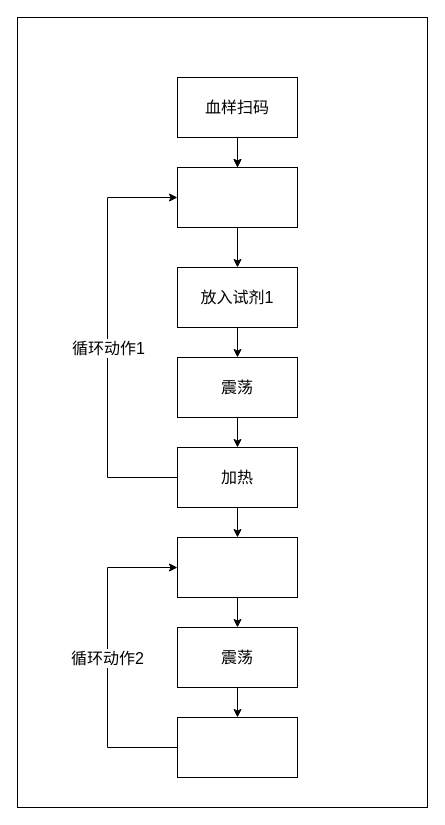
Image size: 445x825. Some labels were removed from this diagram. The shapes that lost their labels are listed below. From the top down, each one's box as (x1, y1, x2, y2) in pixels, then its label:
(176, 166, 298, 228): 空管开盒
(176, 536, 298, 598): 加入试剂2
(176, 716, 298, 778): 移除样品
